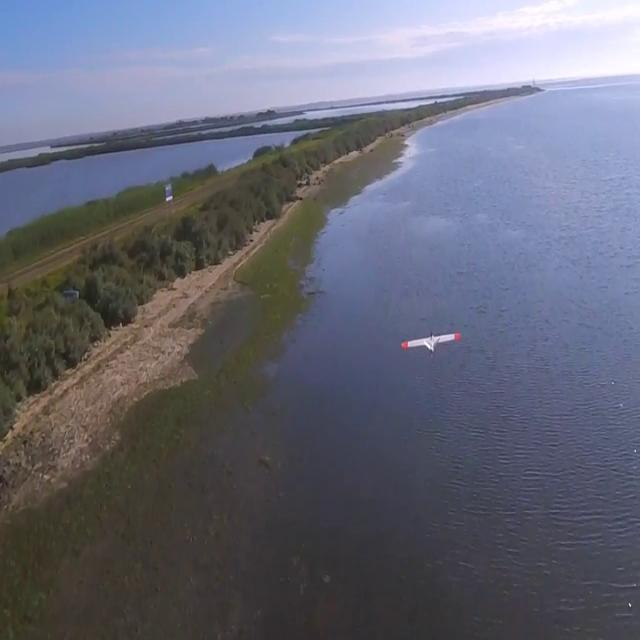iha: (402, 329, 462, 360)
